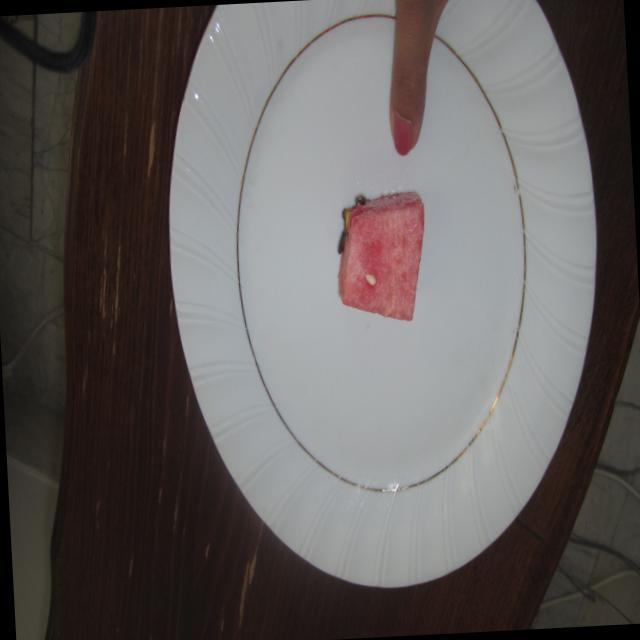Watermelon: (298, 166, 442, 332)
